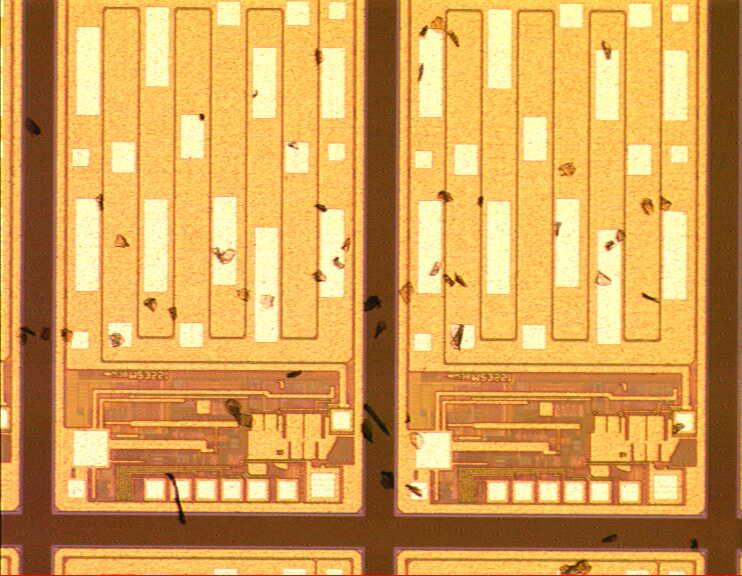PO CONTAMINATION: (9, 12, 709, 576)
